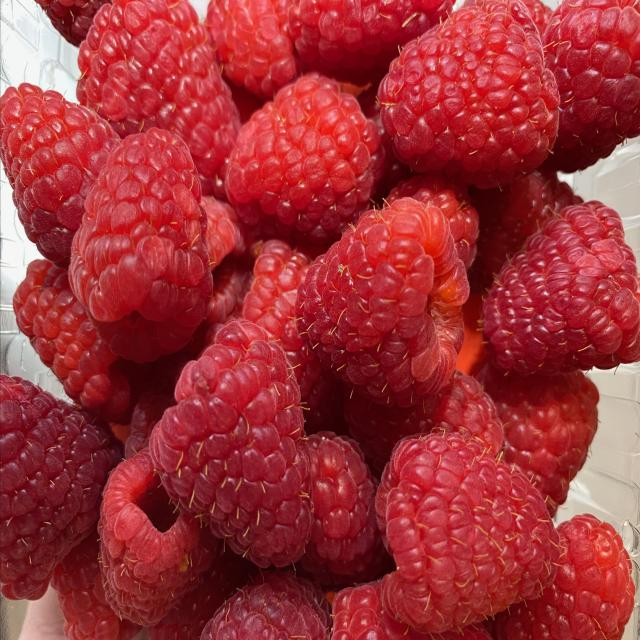raspberries: (11, 7, 634, 620)
